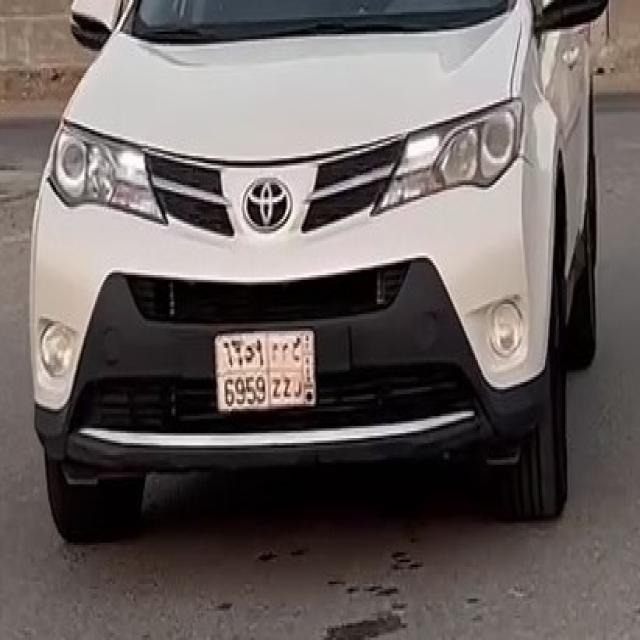Car-plate: (204, 311, 331, 443)
